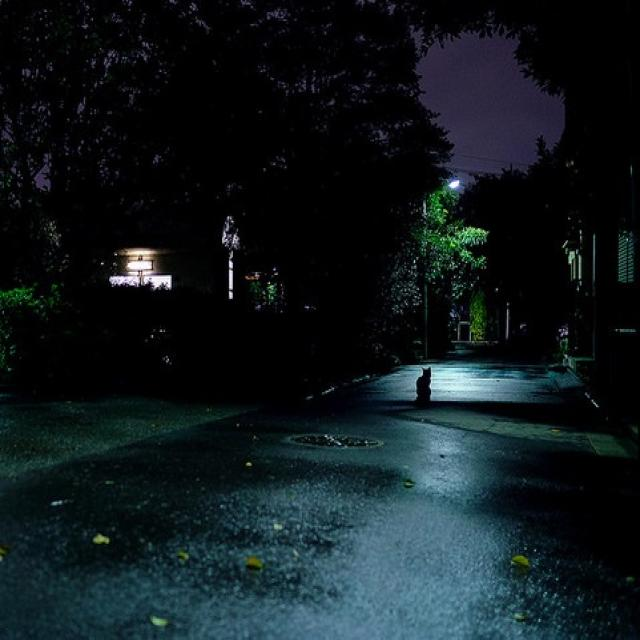Cat: (395, 351, 467, 410)
